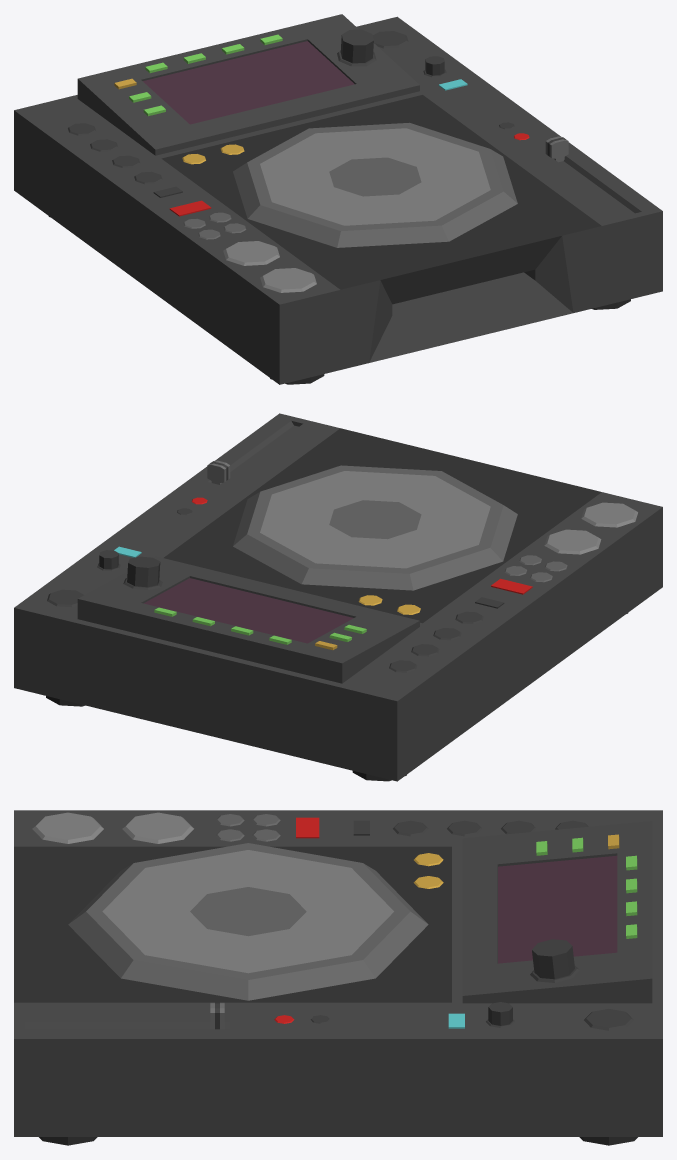
File: CDJ.fbx
The picture shows the model from 3 angles, top to bottom: view 1: azimuth 30°, elevation 25°; view 2: azimuth 150°, elevation 25°; view 3: azimuth 270°, elevation 25°; orthographic projection. The views are drawn at different scales.
Parts seen in each view (by area): view 1: CDJ, Turn Table, Track Select Dial; view 2: CDJ, Turn Table, Track Select Dial; view 3: CDJ, Turn Table, Track Select Dial, Track Fade Dial.
Boxes of the visible parts, box(x1,y1,x2,y2) form: CDJ: box(14, 14, 662, 384); Turn Table: box(233, 122, 517, 247); Track Select Dial: box(337, 29, 376, 66); CDJ: box(14, 413, 662, 781); Turn Table: box(233, 465, 517, 590); Track Select Dial: box(123, 556, 162, 590); CDJ: box(14, 810, 662, 1145); Turn Table: box(68, 843, 428, 1000); Track Select Dial: box(530, 939, 579, 982); Track Fade Dial: box(486, 1002, 515, 1027).
Bounding box in the file's own units: 300 × 95.89 × 360.
